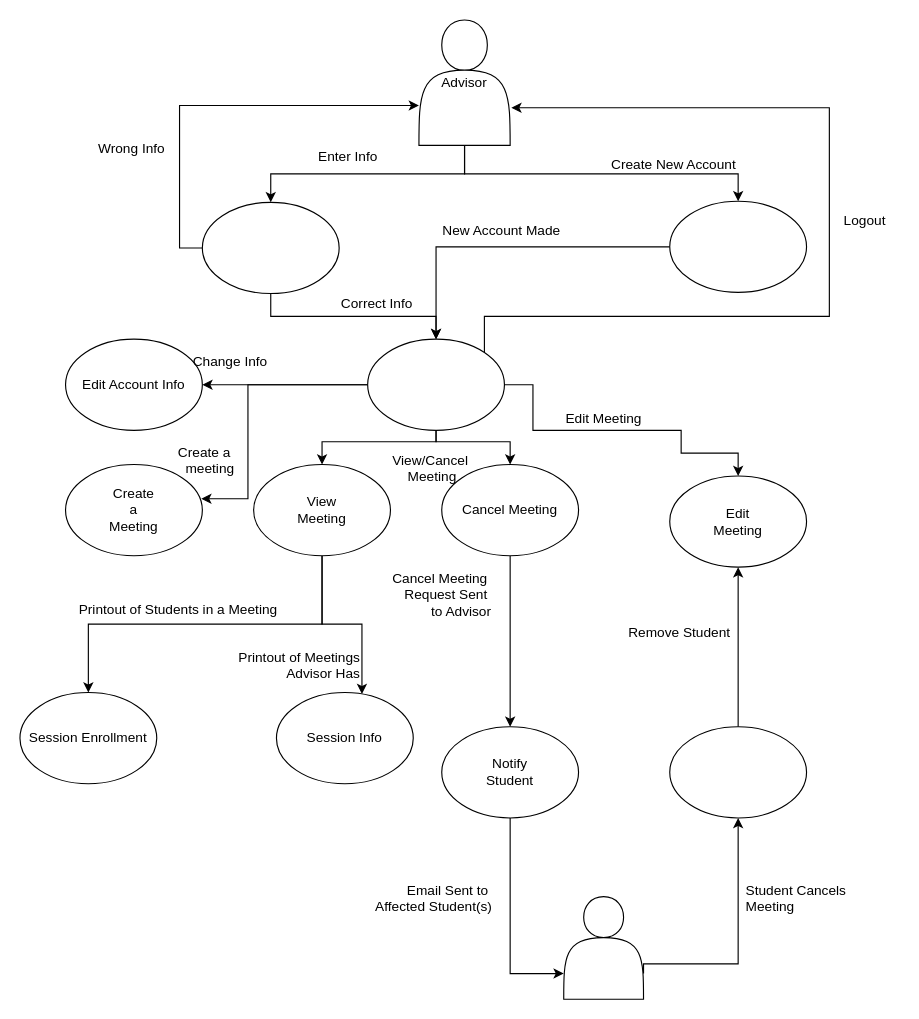
This 919x1019 diagram has some shape labels left out. The shapes that lost their labels are listed below. From the top down, each one's centre as x and y in pixels, then its label:
the point at 270,247: Login
the point at 738,246: New Account
the point at 435,384: Logged-In Advisor
the point at 738,772: Notify Advisor
the point at 603,947: Student
